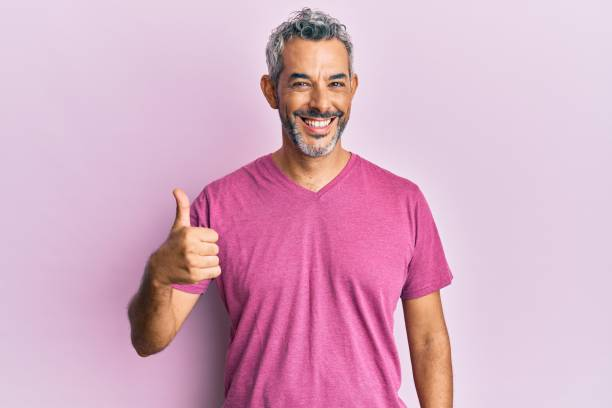ThumbsUp: (158, 188, 223, 286)
